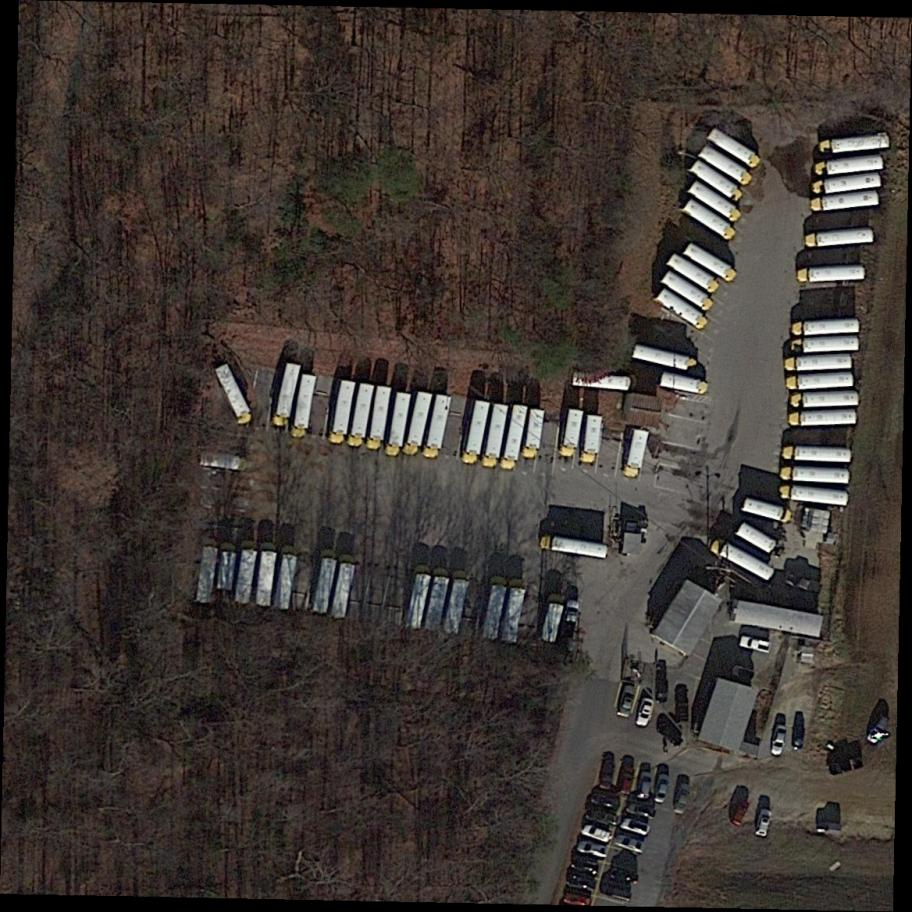large-vehicle: (709, 534, 777, 582), (704, 125, 764, 173), (212, 361, 256, 426), (681, 197, 738, 244), (686, 178, 744, 222), (661, 269, 717, 314), (687, 161, 746, 203), (655, 288, 711, 332), (664, 252, 720, 296), (631, 343, 701, 378), (698, 143, 754, 186), (402, 564, 436, 633), (682, 243, 739, 284), (499, 402, 532, 470), (461, 398, 494, 465), (328, 553, 360, 622), (401, 390, 434, 456), (272, 361, 302, 431), (346, 380, 376, 448), (192, 536, 221, 606), (442, 572, 473, 637), (383, 392, 413, 458), (328, 378, 357, 446), (422, 394, 452, 459), (310, 552, 340, 617), (422, 569, 452, 634), (779, 483, 853, 509), (540, 533, 610, 560), (483, 403, 512, 468), (814, 152, 886, 178), (810, 191, 882, 217), (782, 440, 855, 465), (568, 368, 641, 393), (273, 546, 301, 611), (482, 579, 510, 643), (502, 581, 529, 644), (814, 171, 884, 195), (819, 132, 889, 156), (292, 373, 317, 439), (798, 263, 868, 286), (368, 384, 392, 450), (619, 426, 650, 477), (739, 498, 793, 527), (578, 412, 607, 465), (233, 544, 257, 607), (195, 448, 249, 476), (803, 227, 874, 248), (783, 353, 854, 374), (540, 595, 569, 645), (782, 464, 851, 485), (522, 406, 548, 460), (257, 546, 279, 609), (786, 374, 856, 393), (793, 318, 863, 337), (659, 371, 710, 397), (557, 407, 583, 458), (792, 337, 861, 355), (788, 412, 857, 430), (794, 393, 862, 407), (216, 550, 237, 593)
small-vehicle: (736, 631, 777, 655), (615, 680, 639, 720), (726, 797, 754, 831), (606, 862, 642, 888), (599, 881, 635, 906), (655, 719, 686, 748), (580, 821, 615, 846), (575, 838, 610, 863), (563, 871, 601, 894), (633, 694, 657, 730), (768, 722, 792, 757), (866, 714, 892, 746), (623, 800, 659, 823), (670, 782, 693, 816), (619, 816, 653, 839), (581, 805, 618, 826), (568, 855, 604, 876), (650, 771, 672, 805), (613, 834, 647, 856), (751, 807, 774, 839), (587, 791, 619, 813), (616, 762, 636, 795), (598, 757, 617, 790), (636, 769, 654, 801), (675, 692, 692, 725), (789, 722, 807, 750), (656, 676, 669, 703)
